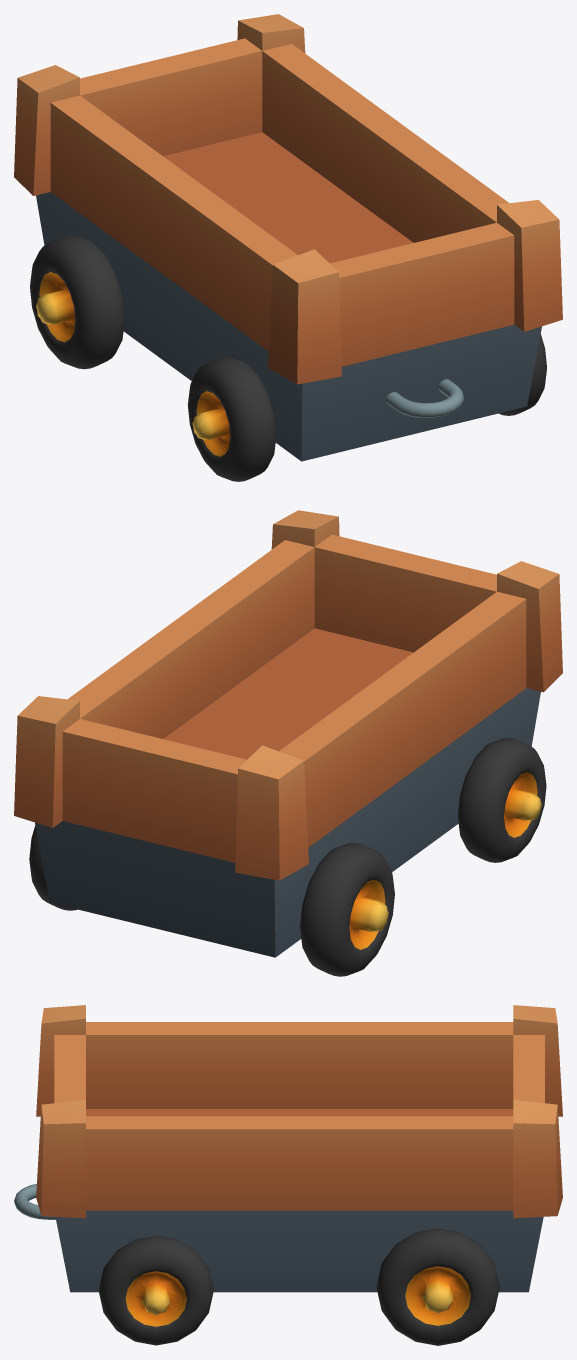
The model's file is TractorCaseGray.fbx.
The picture shows the model from 3 angles, top to bottom: view 1: azimuth 30°, elevation 25°; view 2: azimuth 150°, elevation 25°; view 3: azimuth 270°, elevation 25°; orthographic projection. The views are drawn at different scales.
Parts seen in each view (by area): view 1: TractorCase.001; view 2: TractorCase.001; view 3: TractorCase.001.
Part boxes in pixels (x1=…): TractorCase.001: x1=14, y1=14, x2=562, y2=481; TractorCase.001: x1=14, y1=510, x2=562, y2=976; TractorCase.001: x1=14, y1=1005, x2=562, y2=1345.
Bounding box in the file's own units: 0.7255 × 0.4935 × 1.1.
